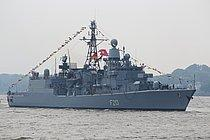MIL_Ship: (5, 16, 197, 112)
